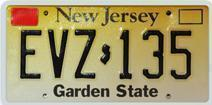placa de veiculo: (7, 4, 207, 100)
